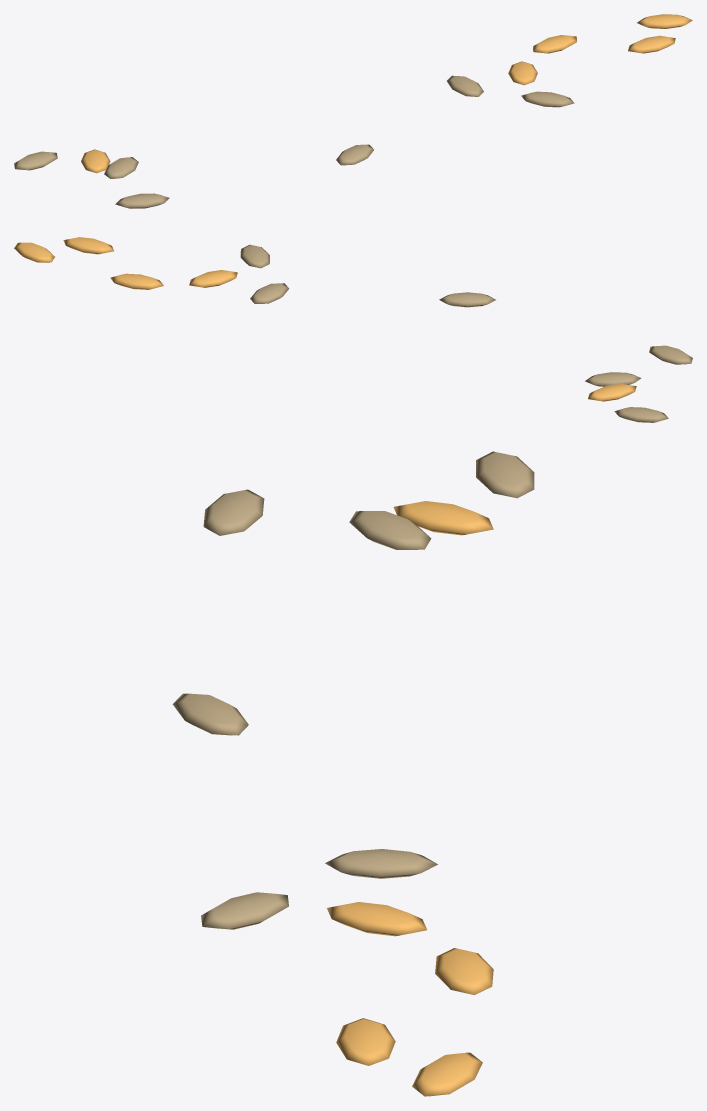
Rendered from layer_autumn_edge.glb.
3 renders of one model, top to bottom at view 1: azimuth 30°, elevation 25°; view 2: azimuth 150°, elevation 25°; view 3: azimuth 270°, elevation 25°, orthographic. The views are drawn at different scales.
Bounding box in the file's own units: 2.82 × 0.0349 × 0.6681.
